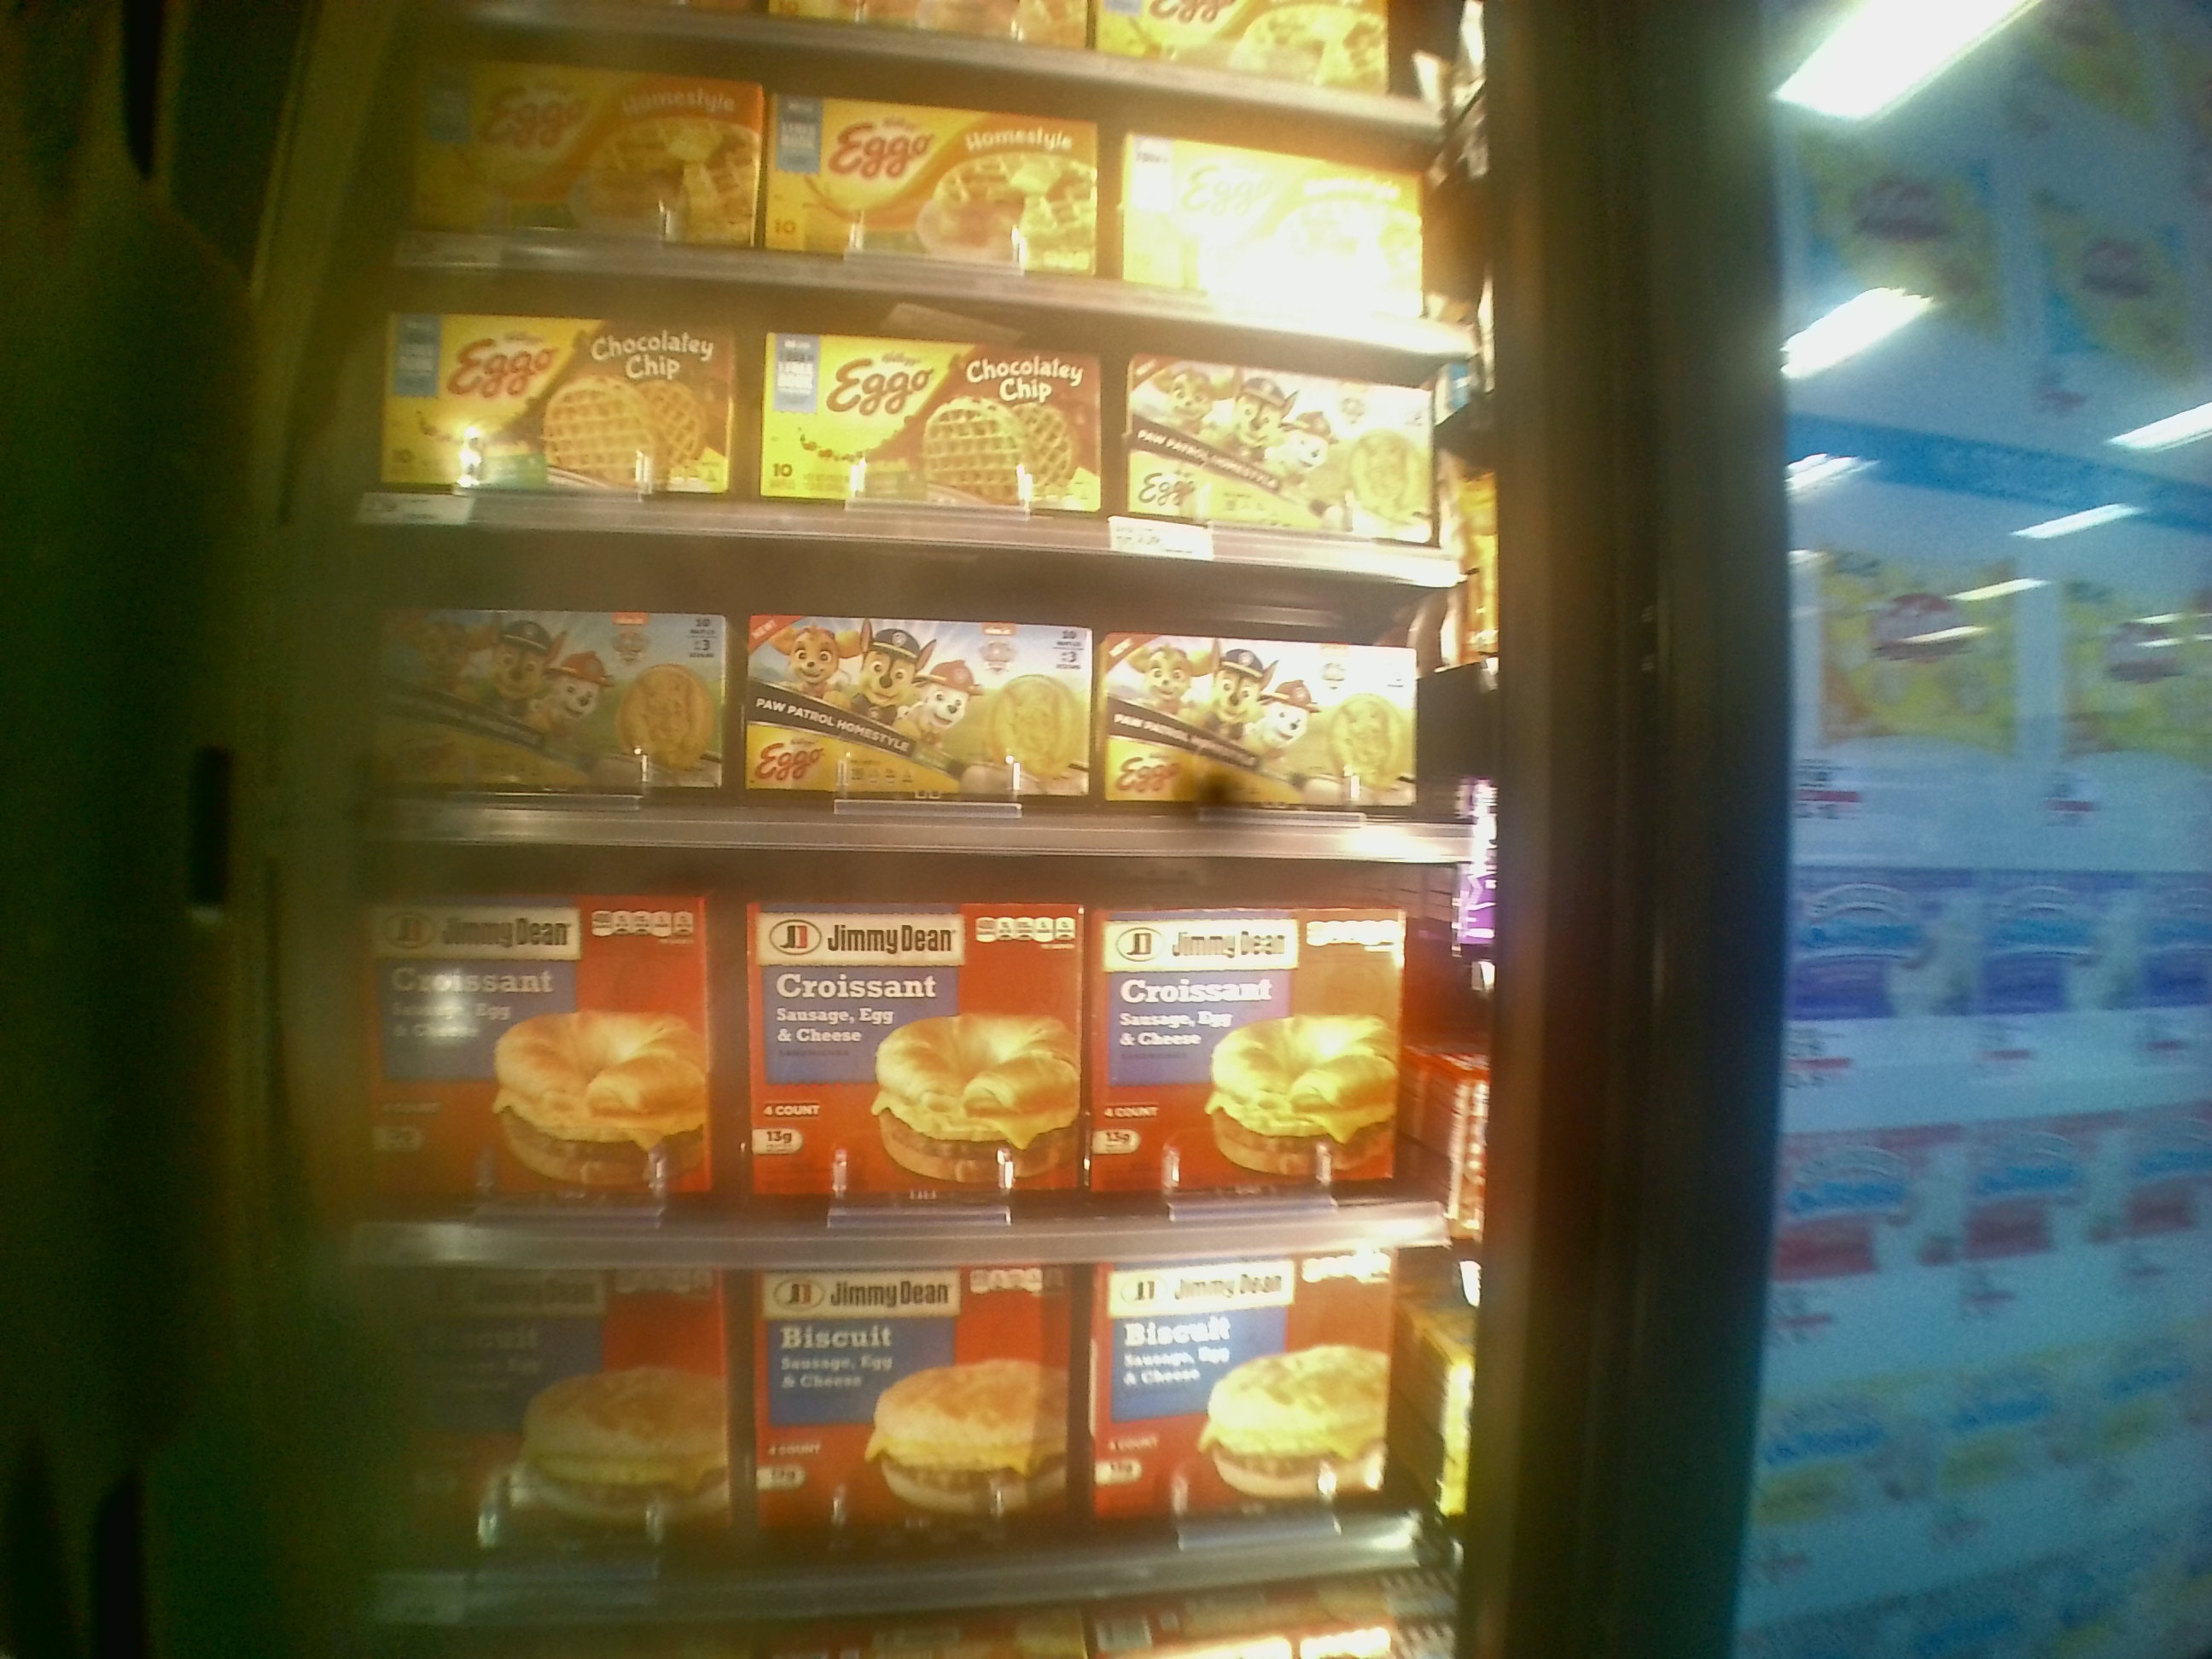shelf: (341, 842, 1465, 1260)
